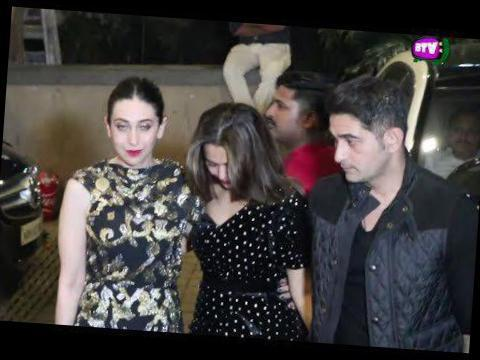Drunk: (328, 112, 386, 182), (108, 100, 159, 165)
